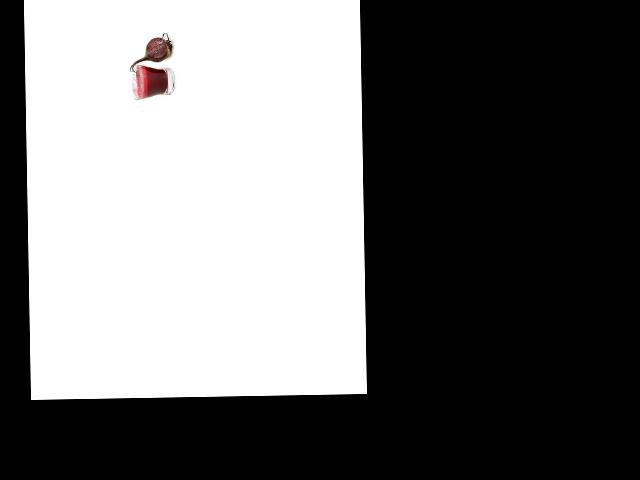beet: (129, 33, 173, 77)
